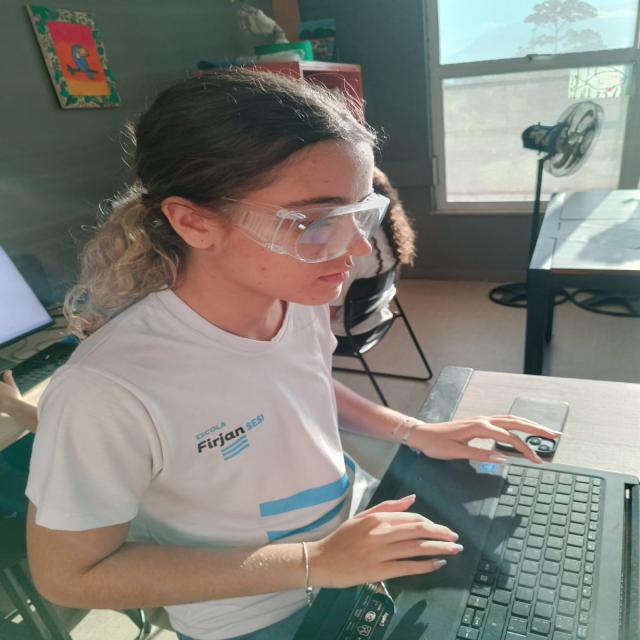oculos-epi: (211, 194, 394, 266)
